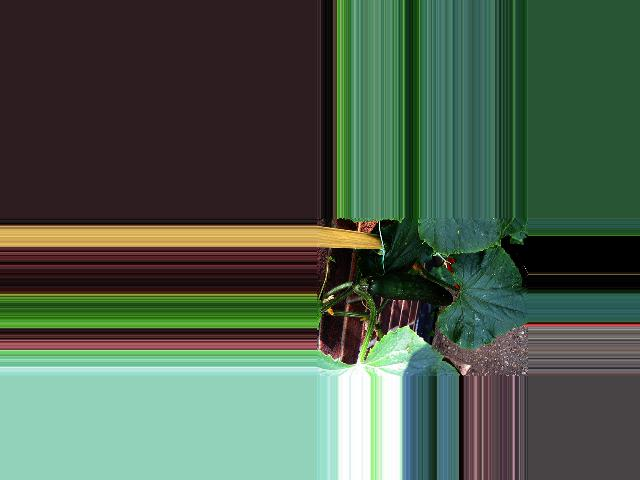cucumber: (366, 273, 452, 307)
